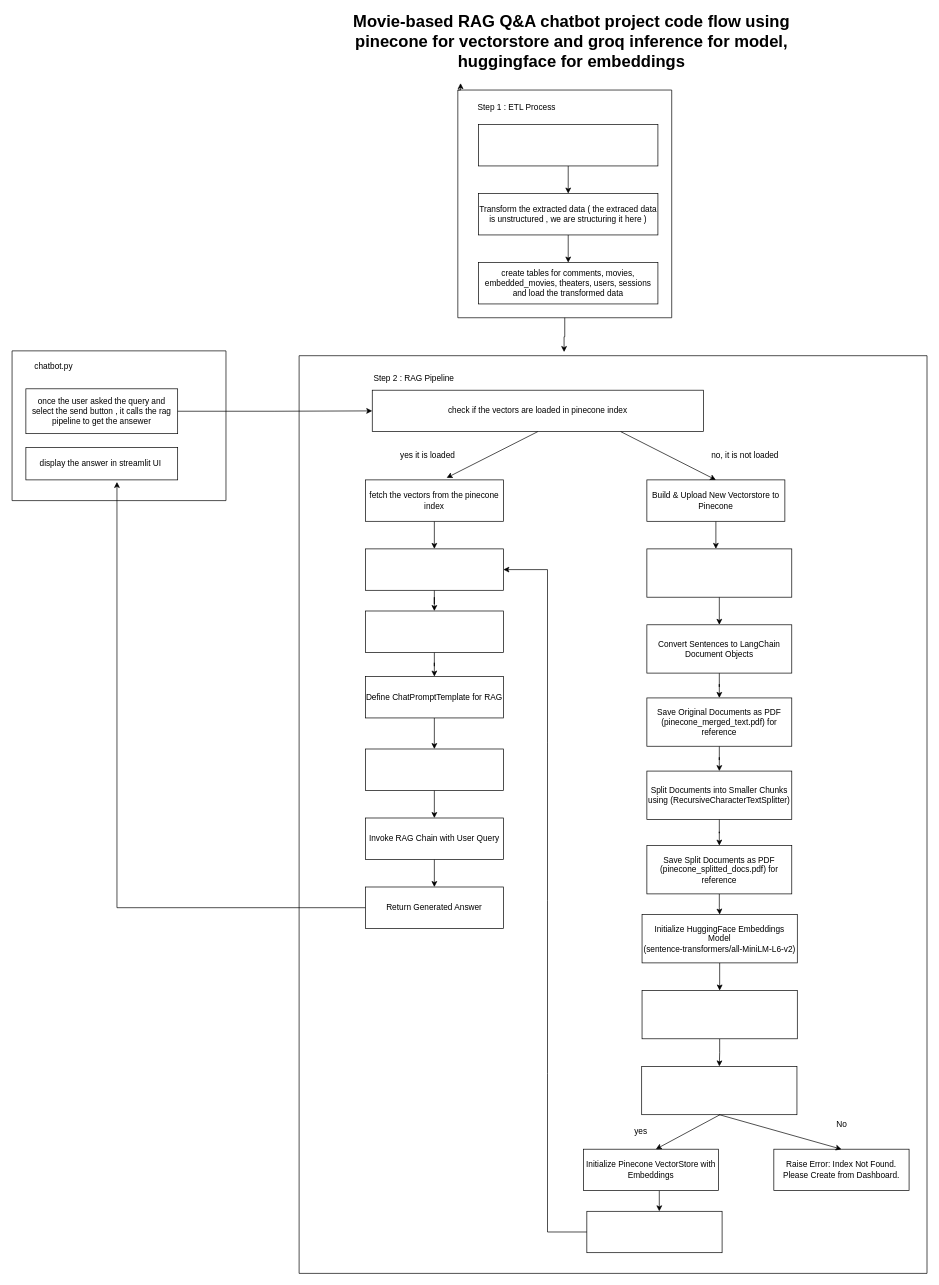
This 939x1285 diagram has some shape labels left out. Each missing label, with the box of its shape:
Check if Pinecone Index Exists: (641, 1066, 797, 1115)
Create RetrievalQA Chain (combine retriever and LLM): (365, 748, 503, 790)
Extract data from Mongodb using pymongo package: (478, 124, 658, 166)
Initialize Groq-based LLM (gemma2-9b-it): (365, 610, 503, 652)
Initialize Pinecone Client and Get Index Object: (641, 990, 797, 1039)
Retrieve and Merge All Movie Data into Natural Language Sentences: (646, 548, 792, 597)
Setup Retriever (k=5) from Vectorstore: (365, 548, 503, 590)
Upload Split Documents (Vectors) to Pinecone Index: (586, 1211, 722, 1253)
